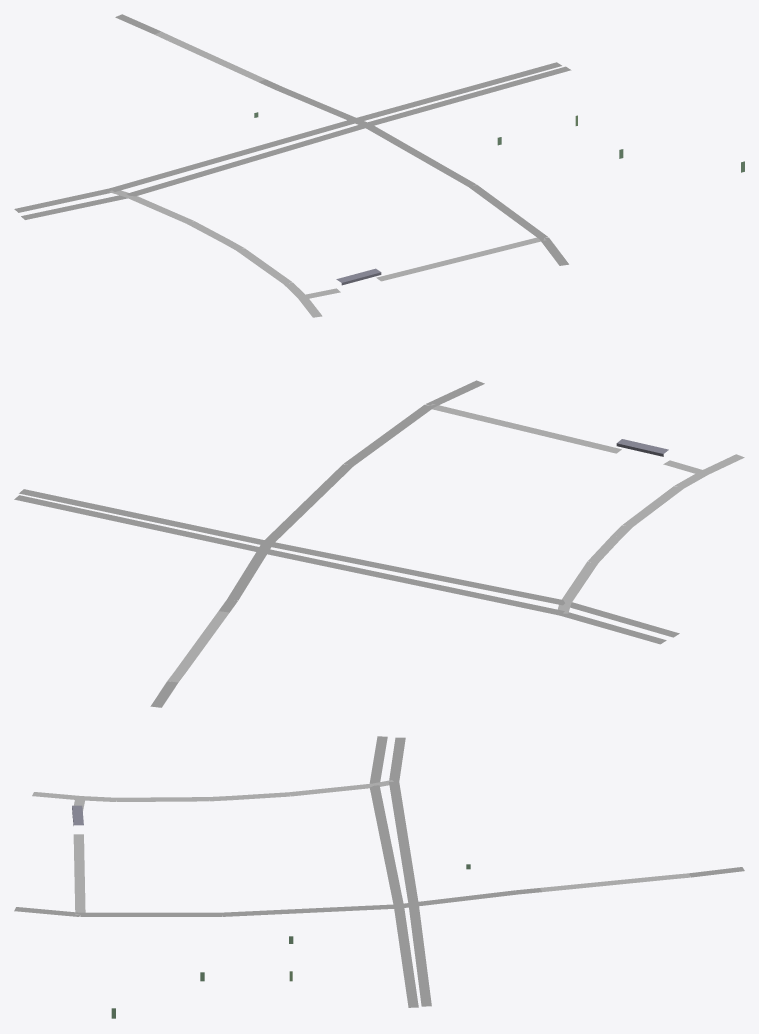
The picture shows the model from 3 angles, top to bottom: view 1: azimuth 30°, elevation 25°; view 2: azimuth 150°, elevation 25°; view 3: azimuth 270°, elevation 25°; orthographic projection. The views are drawn at different scales.
Size of the model in its own units: 457 by 9.23 by 495.
